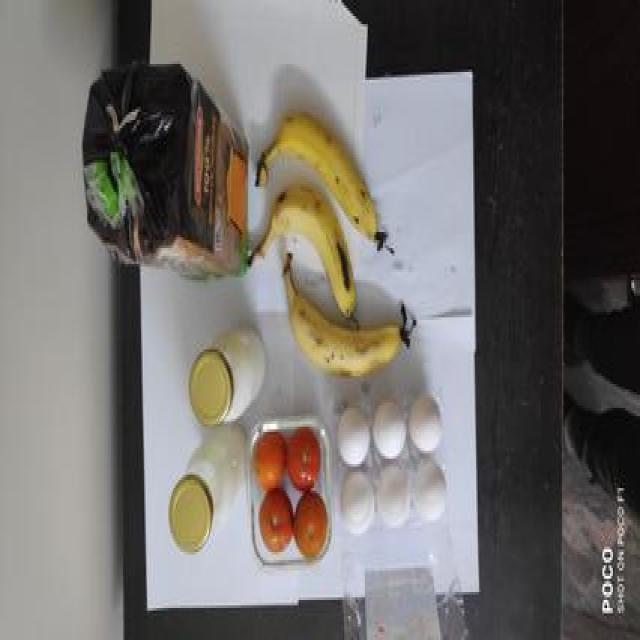Fresh_tomato: (248, 436, 330, 560)
